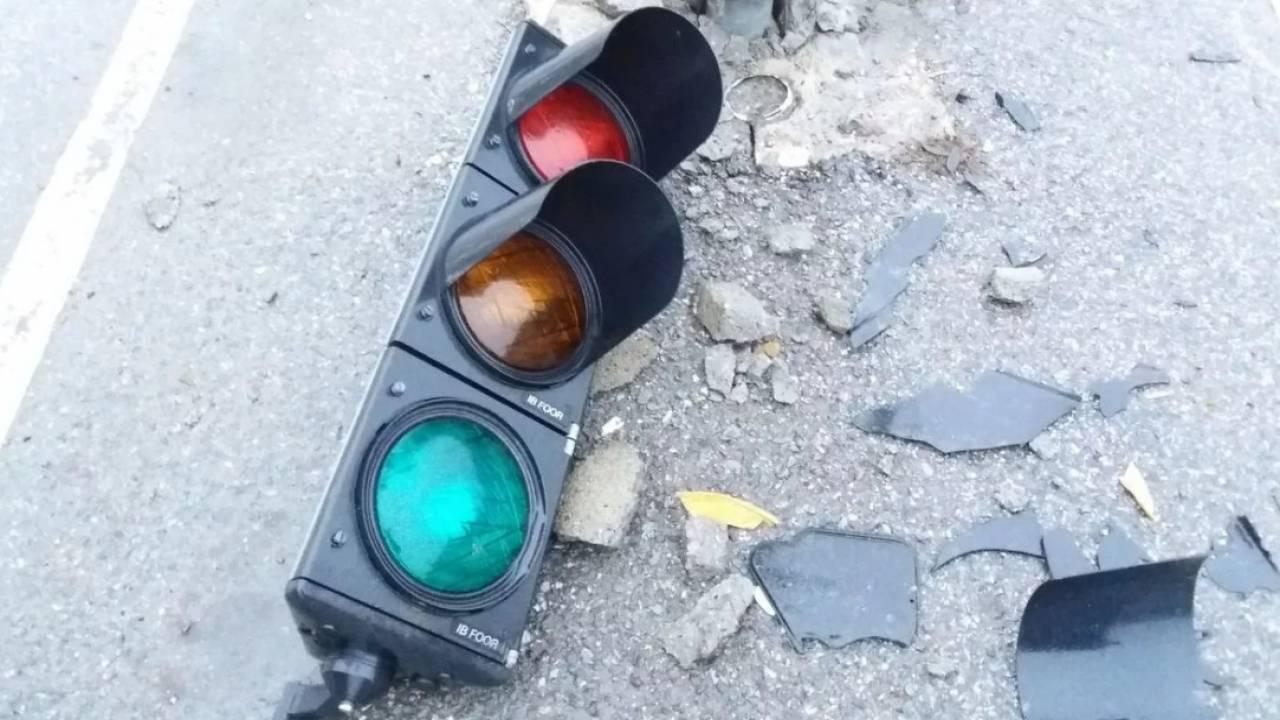off traffic light: (286, 7, 722, 641)
